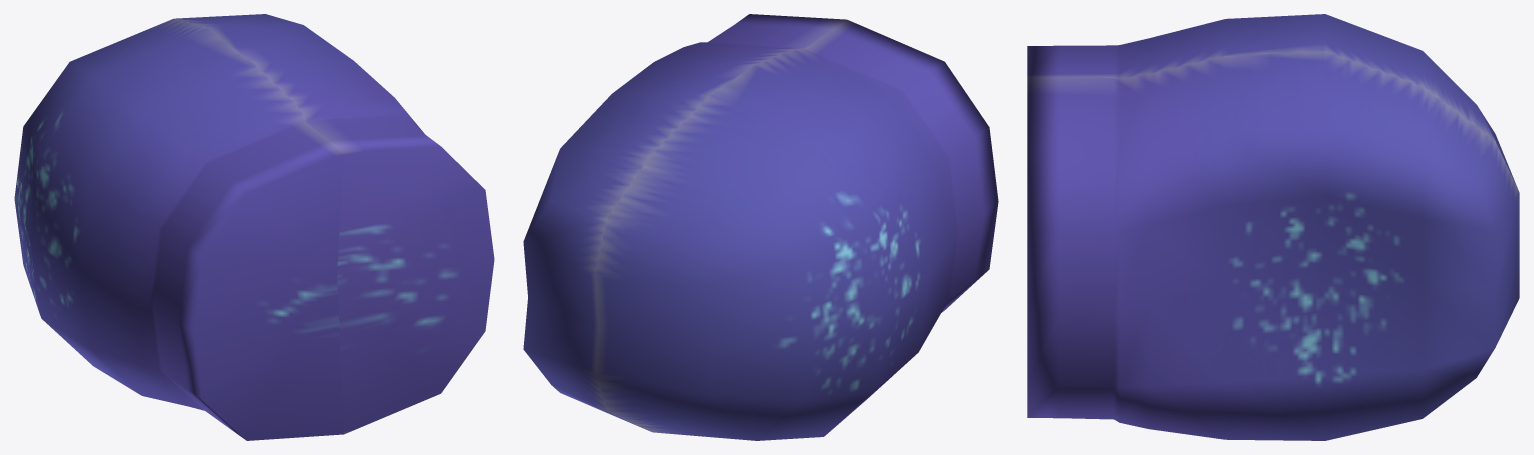
Rendered from LeftHand.fbx.
3 views of the same model, side by side, from view 1: azimuth 30°, elevation 25°; view 2: azimuth 150°, elevation 25°; view 3: azimuth 270°, elevation 25° (orthographic). The views are drawn at different scales.
Parts seen in each view (by area): view 1: LeftHand; view 2: LeftHand; view 3: LeftHand.
Boxes of the visible parts, x1=… form: LeftHand: x1=14, y1=14, x2=494, y2=440; LeftHand: x1=523, y1=14, x2=998, y2=440; LeftHand: x1=1027, y1=14, x2=1519, y2=440.
Bounding box in the file's own units: 2.05 × 1.98 × 2.46.
Materials: 1 (1 with a texture image).
